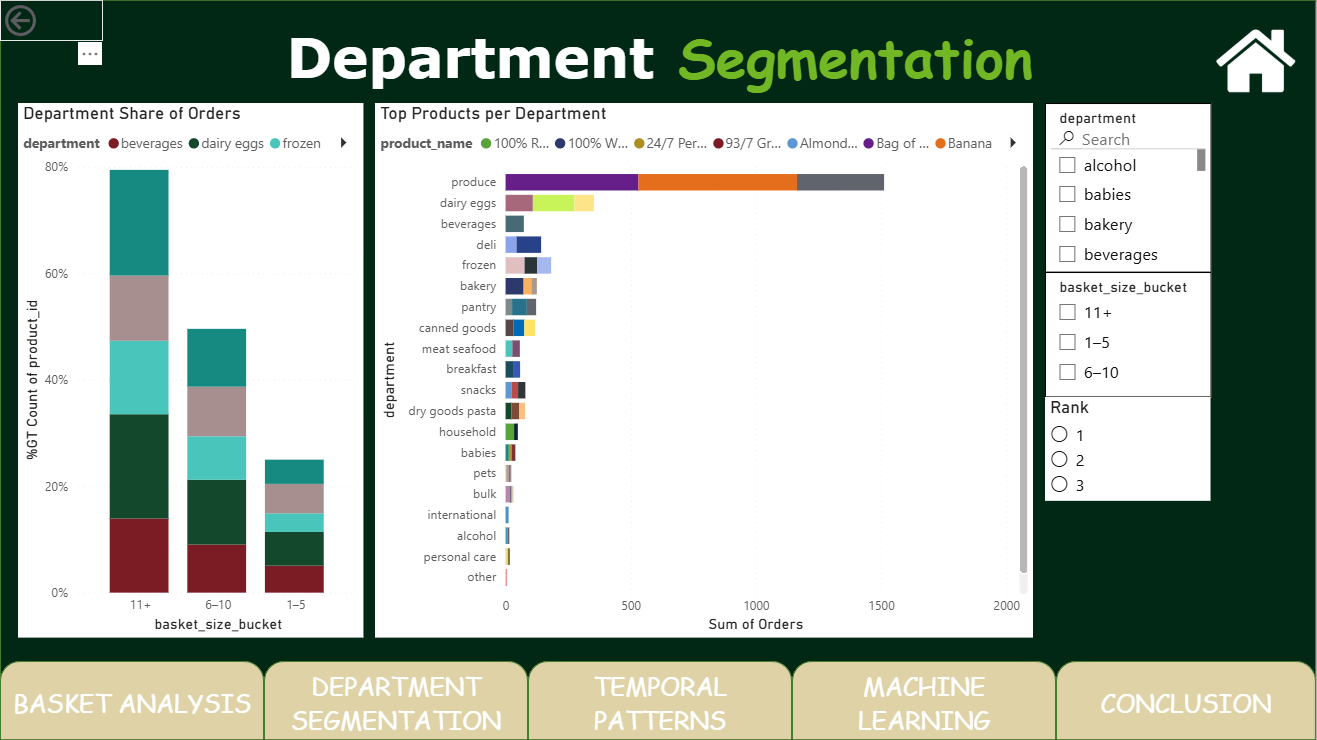

The page's visual inventory and layout, read from the dashboard file:
{"tool":"powerbi","page":{"name":"Department Segmentation","canvas":[1280,720],"ordinal":6},"visuals":[{"type":"shape","box":[0,0,1280,720],"z":0},{"type":"textbox","box":[18,12,1246,88],"z":1000},{"type":"barChart","title":"Top Products per Department","fields":{"Y":["Sum(Top3ProductsByDept.Orders)"],"Series":["Top3ProductsByDept.product_name"],"Category":["departments.department"]},"box":[365,100,640,520],"z":2000},{"type":"columnChart","title":"Department Share of Orders","fields":{"Category":["BasketSizes.basket_size_bucket"],"Y":["Count(OrdersProductsFull.product_id)"],"Series":["departments.department"]},"box":[18,99.9,335.7,519.6],"z":3000},{"type":"image","box":[1178.3,11.7,86.7,95],"z":4000},{"type":"slicer","fields":{"Values":["departments.department"]},"box":[1016.7,100,161.7,165],"z":5000},{"type":"slicer","fields":{"Values":["BasketSizes.basket_size_bucket"]},"box":[1016.7,265,161.7,121.7],"z":6000},{"type":"actionButton","box":[0,0,100,40],"z":7000},{"type":"listSlicer","fields":{"Values":["Top3ProductsByDept.Rank"]},"box":[1016.4,386.1,161.5,101.2],"z":8000},{"type":"shape","box":[0,643.1,256.8,76.9],"z":9000},{"type":"shape","box":[256.8,643.1,256.8,76.9],"z":10000},{"type":"shape","box":[513.6,643.1,256.8,76.9],"z":11000},{"type":"shape","box":[770.4,643.1,256.8,76.9],"z":12000},{"type":"shape","box":[1027.2,643.1,252.8,76.9],"z":13000}]}

Visuals, with their boxes on the page's 1280x720 design canvas (x1, y1, x2, y2). These are canvas units, not pixel positions in the 1317x740 screenshot, which may show the page scaled, cropped or inside an application window:
shape: {"x1": 0, "y1": 0, "x2": 1280, "y2": 720}
textbox: {"x1": 18, "y1": 12, "x2": 1264, "y2": 100}
"Top Products per Department" barChart: {"x1": 365, "y1": 100, "x2": 1005, "y2": 620}
"Department Share of Orders" columnChart: {"x1": 18, "y1": 100, "x2": 354, "y2": 620}
image: {"x1": 1178, "y1": 12, "x2": 1265, "y2": 107}
slicer - departments.department: {"x1": 1017, "y1": 100, "x2": 1178, "y2": 265}
slicer - BasketSizes.basket_size_bucket: {"x1": 1017, "y1": 265, "x2": 1178, "y2": 387}
actionButton: {"x1": 0, "y1": 0, "x2": 100, "y2": 40}
listSlicer - Top3ProductsByDept.Rank: {"x1": 1016, "y1": 386, "x2": 1178, "y2": 487}
shape: {"x1": 0, "y1": 643, "x2": 257, "y2": 720}
shape: {"x1": 257, "y1": 643, "x2": 514, "y2": 720}
shape: {"x1": 514, "y1": 643, "x2": 770, "y2": 720}
shape: {"x1": 770, "y1": 643, "x2": 1027, "y2": 720}
shape: {"x1": 1027, "y1": 643, "x2": 1280, "y2": 720}
